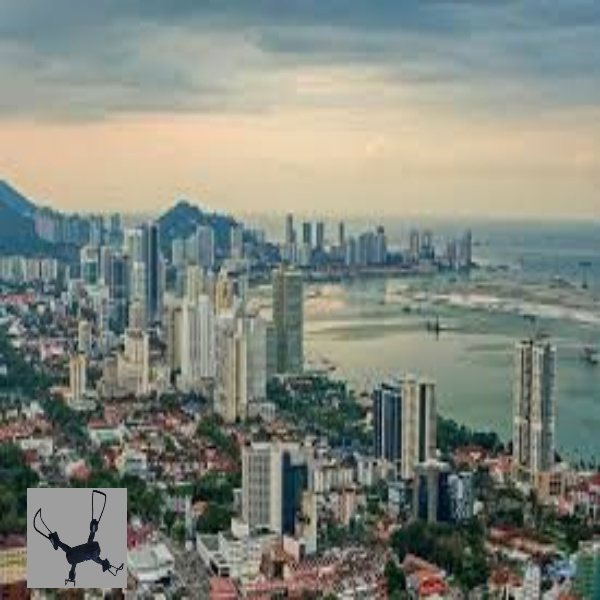drone: (27, 487, 130, 586)
